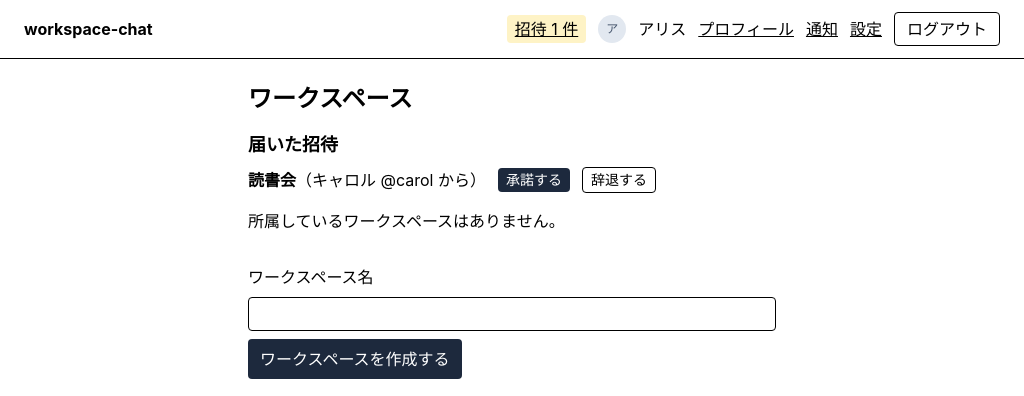
it: 届いた招待の承諾と辞退（F-38） › 辞退すると api に送り、招待を消す（所属は増えない）
The image size is (1024, 396).
Expected: the list named "届いた招待" is shown, [248,167,656,193]
Click the button with aria-label "読書会 への招待を辞退する". click: (619, 180)
box: [582,167,656,193]
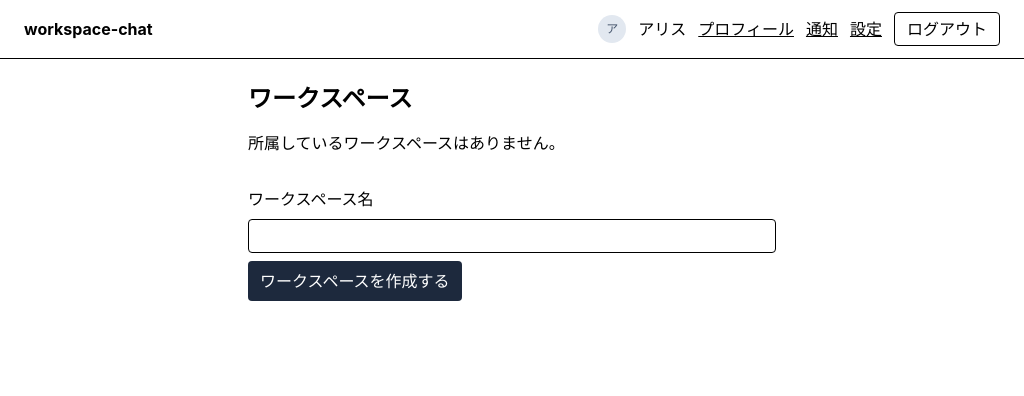
Expected: the heading "届いた招待" is gone
